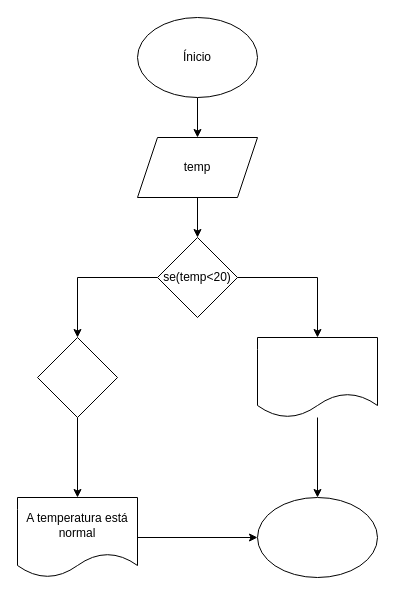
Some shapes in this 395 by 595 pixel diagram are drawn without their labels. The shapes that lost their labels are listed below. From the top down, each one's centre as x and y in pixels, then its label:
(77,377): se(temp<25)
(317,377): A temperatura está fria!
